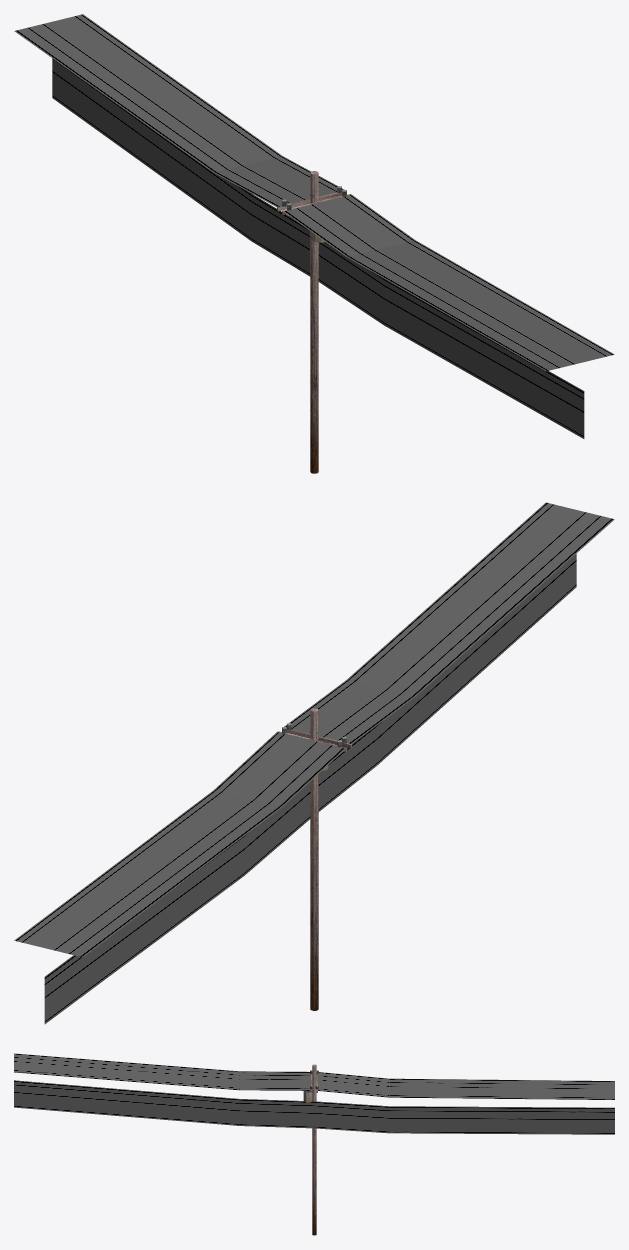
The model's file is tpole40_1b.fbx.
3 renders of one model, top to bottom at view 1: azimuth 30°, elevation 25°; view 2: azimuth 150°, elevation 25°; view 3: azimuth 270°, elevation 25°, orthographic. The views are drawn at different scales.
Parts seen in each view (by area): view 1: mesh_0; view 2: mesh_0; view 3: mesh_0.
Boxes of the visible parts, bbox=[...] form: mesh_0: bbox=[14, 14, 614, 473]; mesh_0: bbox=[14, 502, 614, 1024]; mesh_0: bbox=[14, 1053, 614, 1235].
Size of the model in its own units: 300 by 1260 by 4000.
1 material, 1 textured.
